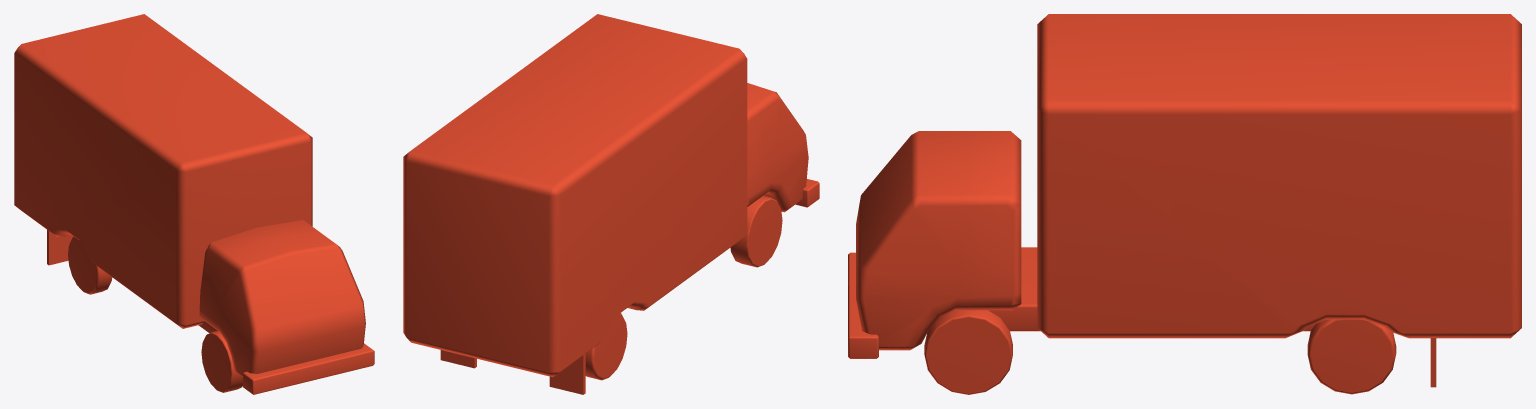
Rendered from TruckKun01.fbx.
3 renders of one model, left to right at view 1: azimuth 30°, elevation 25°; view 2: azimuth 150°, elevation 25°; view 3: azimuth 270°, elevation 25°, orthographic. The views are drawn at different scales.
Parts seen in each view (by area): view 1: Back, Cab, Bumper, Tires_Front, Tires_Back, Flap; view 2: Back, Cab, Tires_Front, Tires_Back, Flap, Bumper; view 3: Back, Cab, Tires_Front, Tires_Back, Base, Bumper.
Part boxes in pixels (box(x1,y1,x2,y2)): Back: box(14, 14, 312, 328); Cab: box(199, 220, 365, 376); Bumper: box(243, 343, 374, 394); Tires_Front: box(201, 331, 242, 392); Tires_Back: box(68, 236, 112, 294); Flap: box(47, 230, 73, 265); Back: box(403, 14, 747, 377); Cab: box(747, 83, 808, 212); Tires_Front: box(730, 196, 782, 267); Tires_Back: box(585, 313, 627, 380); Flap: box(440, 350, 585, 394); Bumper: box(795, 179, 819, 207); Back: box(1037, 14, 1521, 338); Cab: box(856, 131, 1021, 350); Tires_Front: box(924, 310, 1012, 394); Tires_Back: box(1307, 319, 1396, 394); Base: box(988, 247, 1315, 331); Bumper: box(848, 252, 878, 358).
Bounding box in the file's own units: 67.94 × 99.52 × 203.
